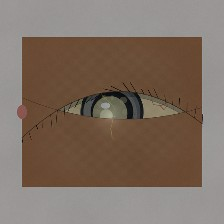corneal_ulcer: (82, 91, 138, 136)
